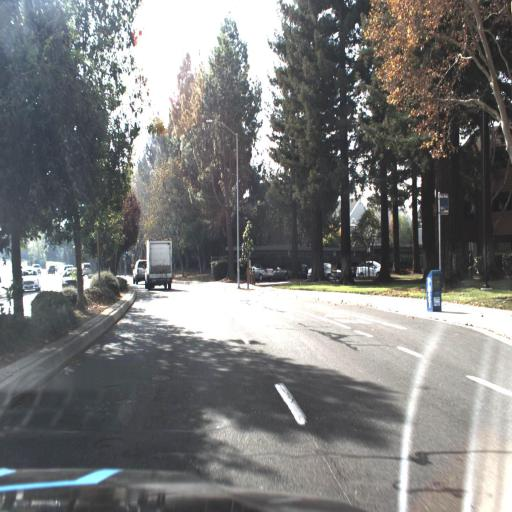car: (350, 253, 390, 282), (57, 263, 85, 300), (303, 259, 344, 284), (349, 257, 382, 283), (246, 258, 274, 287), (60, 264, 87, 293), (17, 266, 43, 295), (129, 255, 148, 288), (269, 257, 291, 282)
truck: (142, 235, 177, 292)
